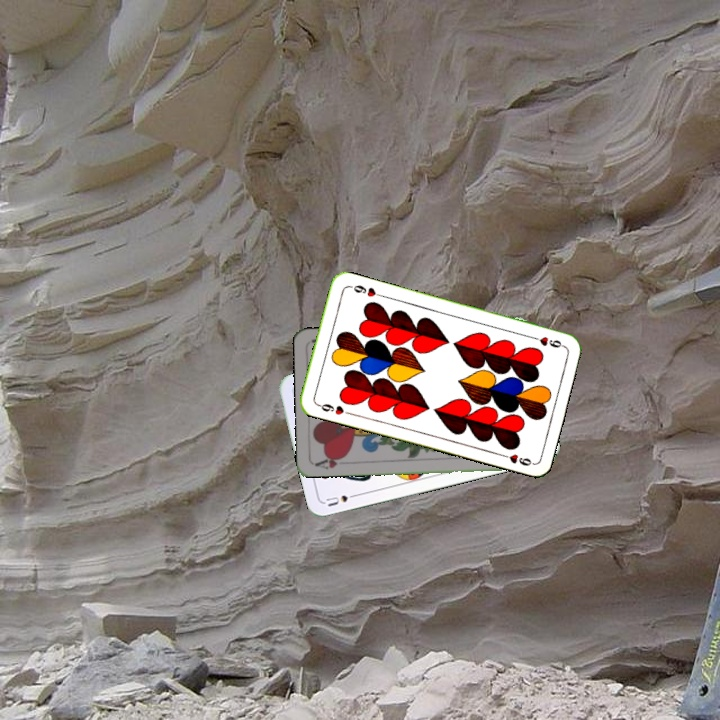H9: (313, 399, 353, 417), (527, 332, 567, 350)
HA: (311, 452, 349, 472)
SU: (322, 489, 361, 509)
